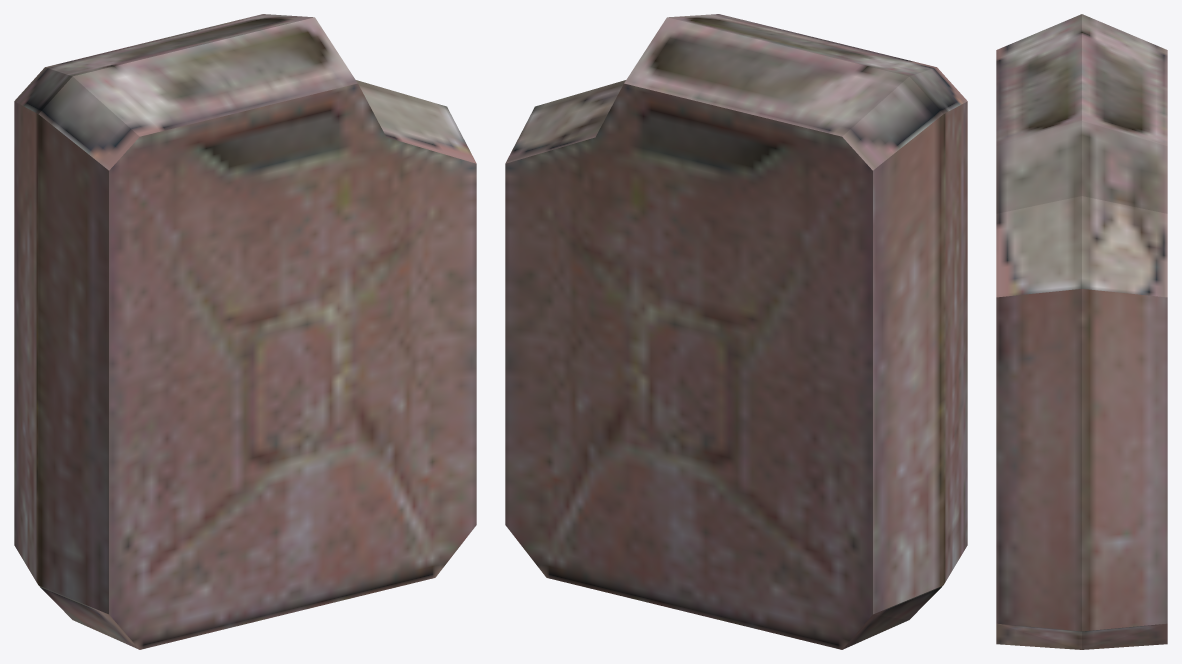
The model's file is JerryCan01.obj.
3 views of the same model, side by side, from view 1: azimuth 30°, elevation 25°; view 2: azimuth 150°, elevation 25°; view 3: azimuth 270°, elevation 25° (orthographic). The views are drawn at different scales.
Visible parts, largest first — view 1: JerryCan01; view 2: JerryCan01; view 3: JerryCan01.
Boxes of the visible parts, x1,y1,x2,y2 form: JerryCan01: [14, 14, 476, 649]; JerryCan01: [505, 14, 967, 649]; JerryCan01: [996, 14, 1167, 649].
Bounding box in the file's own units: 0.7018 × 0.8923 × 0.2824.
